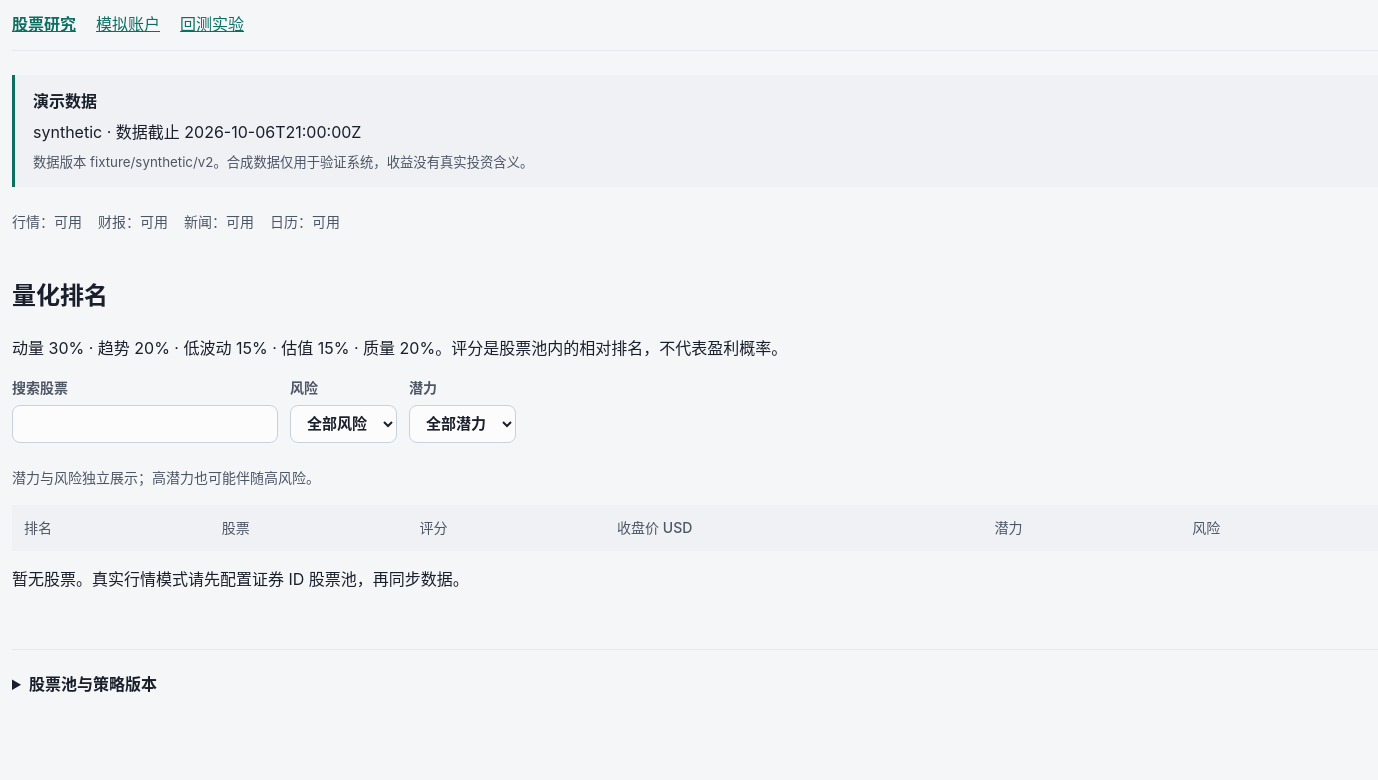
distinguishes no data from no filter matches
Expected: the text "暂无股票。真实行情模式请先配置证券 ID 股票池，再同步数据。" is shown, [12,570,469,590]
Type "demo" into the field labelled "搜索股票" at {"x": 145, "y": 424}, box [12,405,278,443]
Wait 300 ms
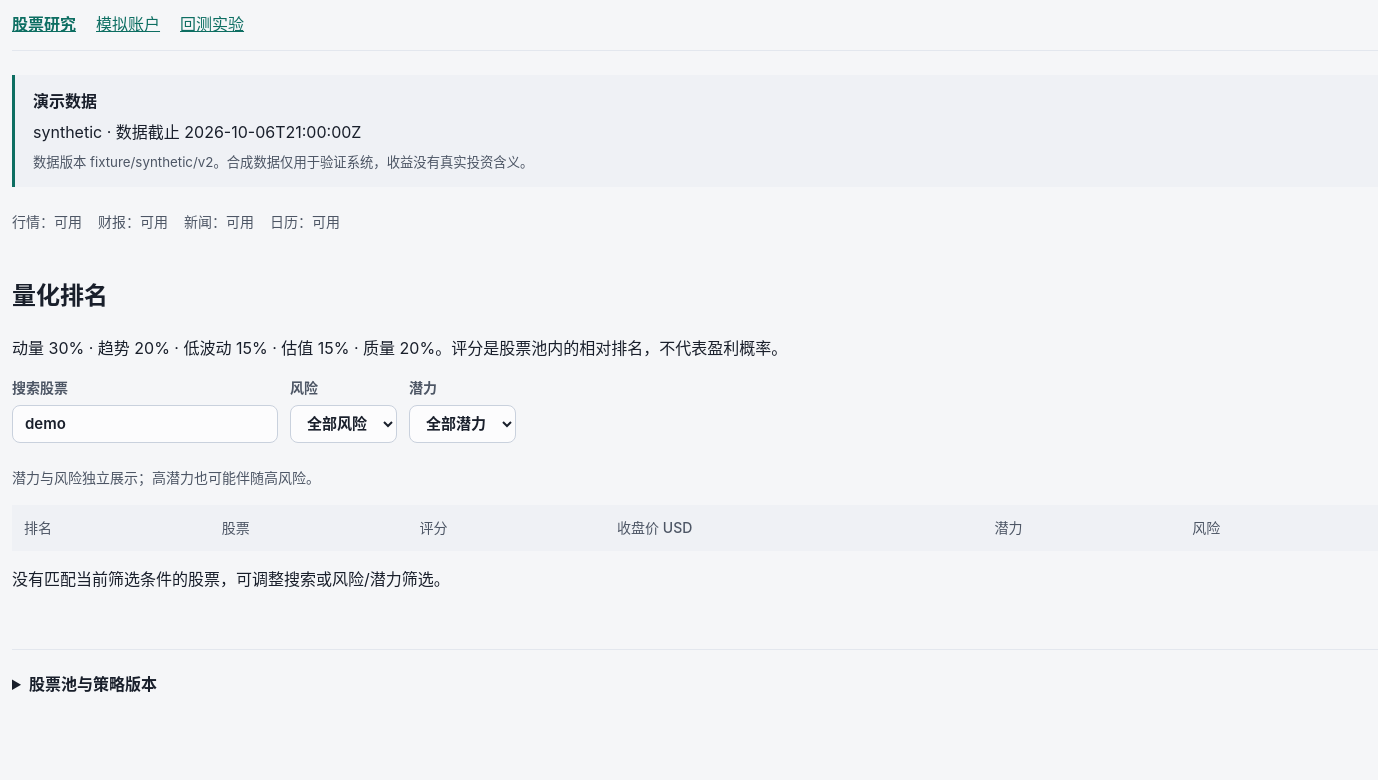
Now the text "没有匹配当前筛选条件的股票，可调整搜索或风险/潜力筛选。" is shown, box [12,570,450,590]
Now the text "暂无股票" is gone
